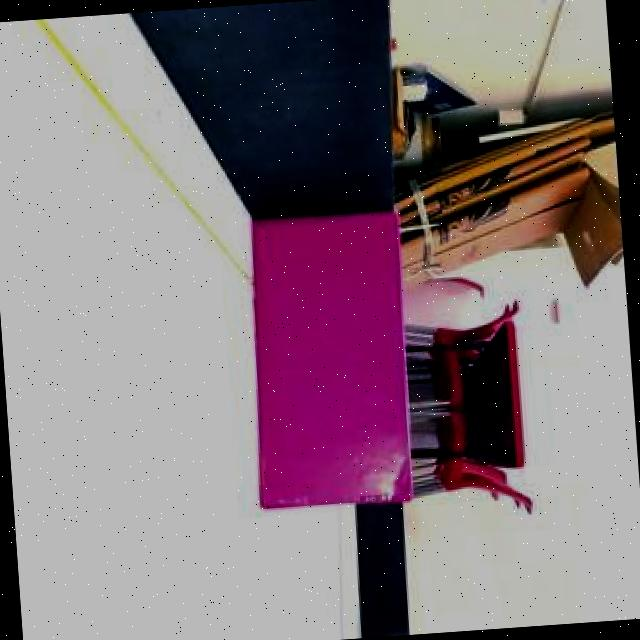xparking: (238, 210, 420, 515)
